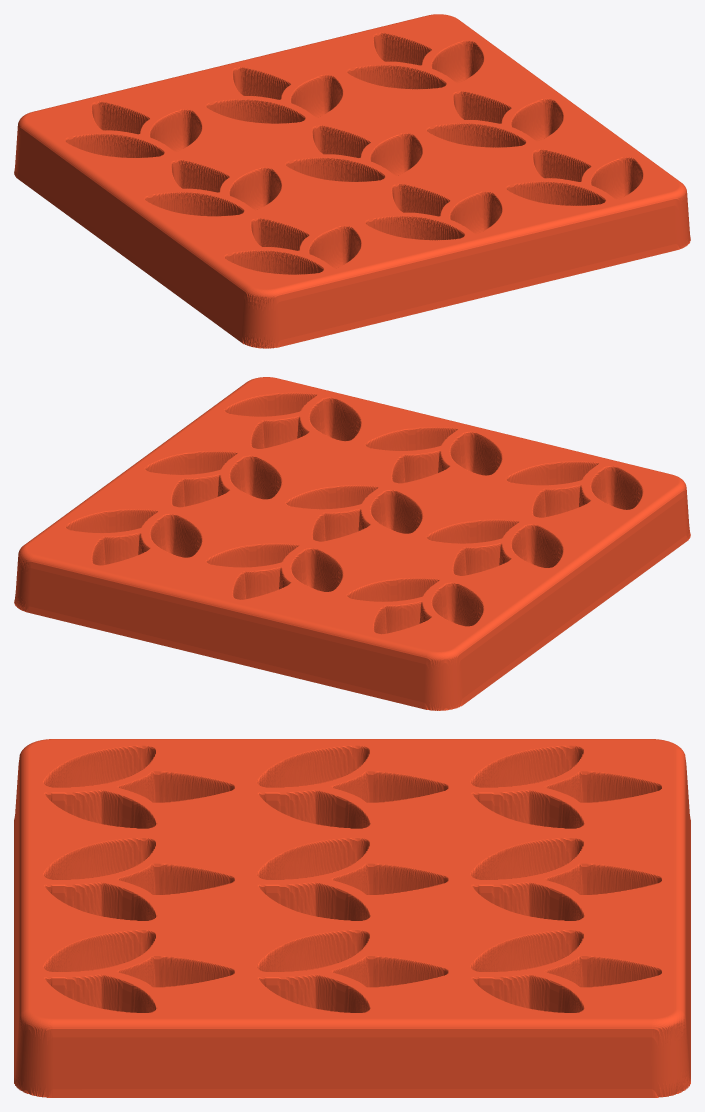
The model's file is mold.glb.
The picture shows the model from 3 angles, top to bottom: view 1: azimuth 30°, elevation 25°; view 2: azimuth 150°, elevation 25°; view 3: azimuth 270°, elevation 25°; orthographic projection. The views are drawn at different scales.
Parts seen in each view (by area): view 1: geometry_0; view 2: geometry_0; view 3: geometry_0.
Boxes of the visible parts, left/top/right/bottom form: geometry_0: left=14, top=14, right=690, bottom=348; geometry_0: left=14, top=377, right=690, bottom=710; geometry_0: left=14, top=739, right=690, bottom=1097.
Size of the model in its own units: 0.1595 by 0.0185 by 0.1563.
